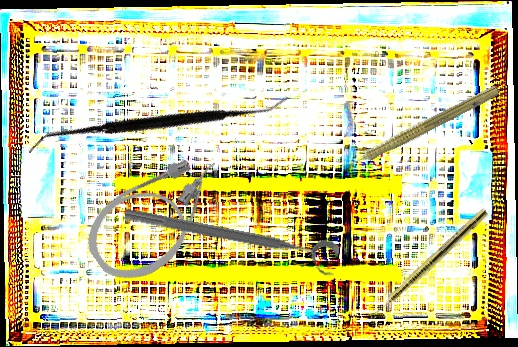Cannula: (73, 139, 246, 296)
Fixation Ring: (120, 201, 341, 280)
Handpiece: (332, 78, 503, 179), (364, 206, 490, 324)
Spatula Surgical: (27, 0, 290, 250)
